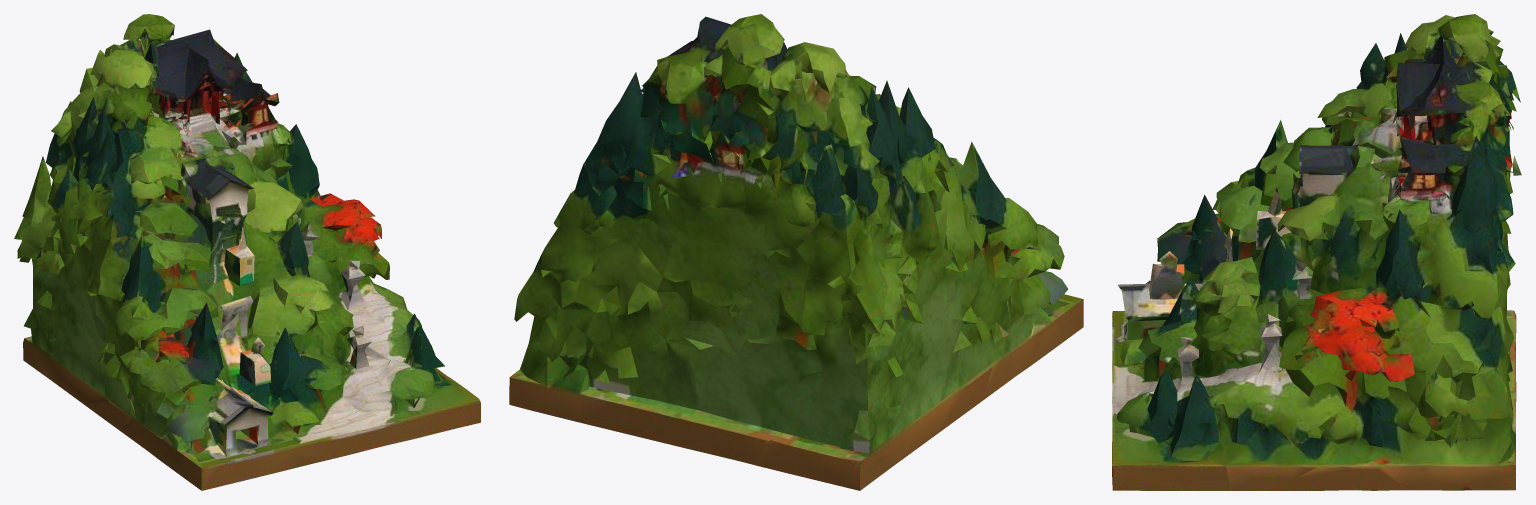
The model's file is takaosan.glb.
The picture shows the model from 3 angles, left to right: view 1: azimuth 30°, elevation 25°; view 2: azimuth 150°, elevation 25°; view 3: azimuth 270°, elevation 25°; orthographic projection. The views are drawn at different scales.
Visible parts, largest first — view 1: logan-textured.obj; view 2: logan-textured.obj; view 3: logan-textured.obj.
Boxes of the visible parts, x1,y1,x2,y2 form: logan-textured.obj: (14, 14, 480, 490); logan-textured.obj: (509, 14, 1083, 490); logan-textured.obj: (1112, 14, 1521, 490).
Bounding box in the file's own units: 0.986 × 1 × 0.9804.
1 material, 1 textured.
